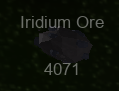Iridium: (20, 14, 105, 76)
